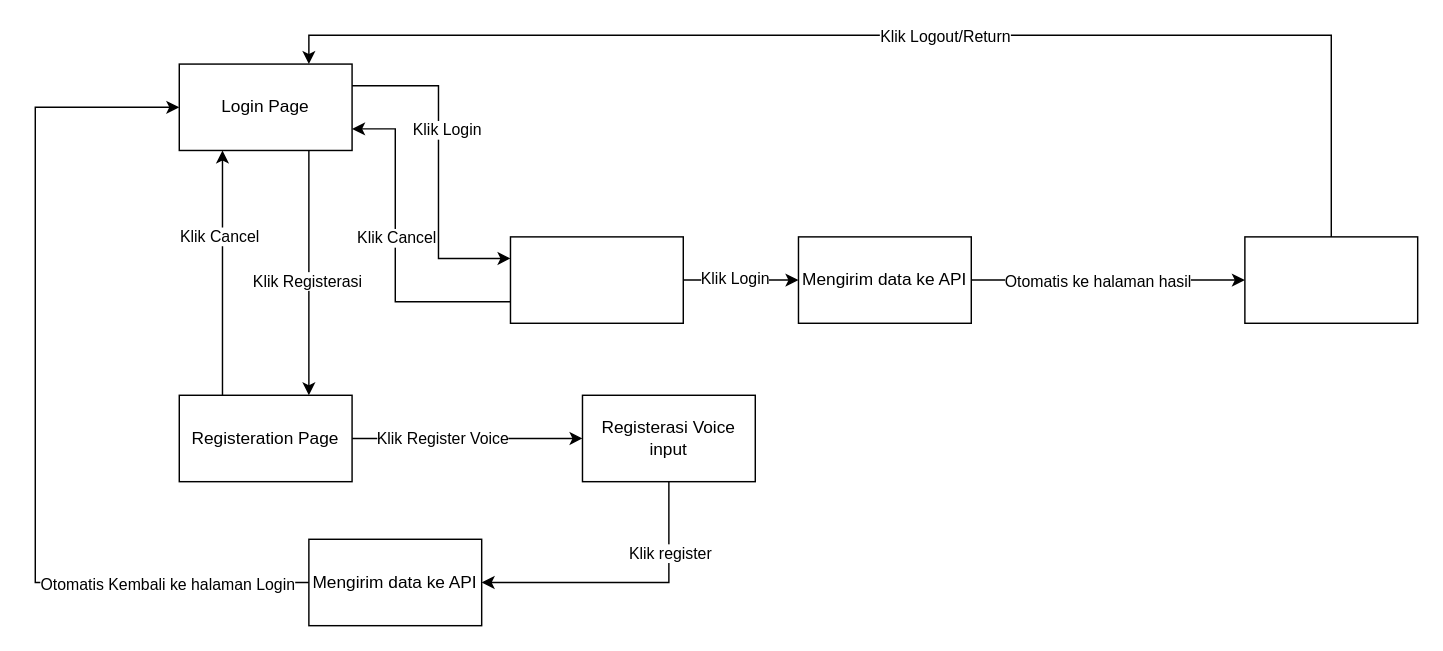
Image size: 1443x651. Some labels were removed from this diagram. Here are the shapes that lost their labels. From the top down, the centre of each, then its label:
pixel 596 279: Voice Input Page
pixel 1330 279: Login Result
